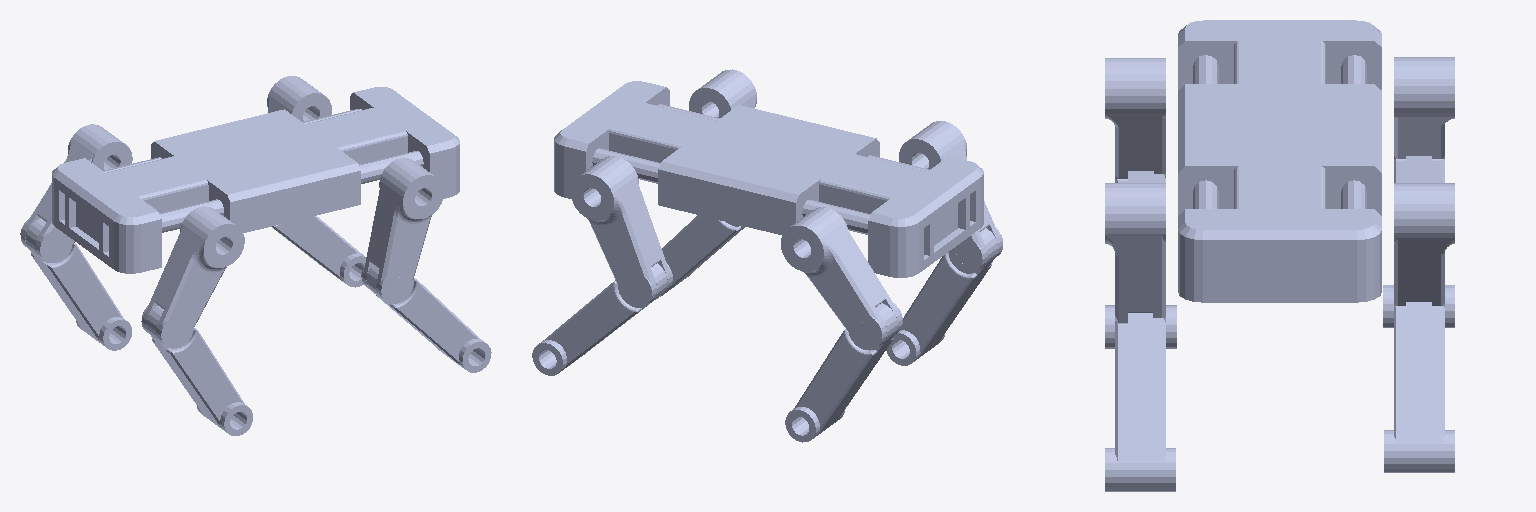
URDF robot description (Assem1_v4.SLDASM):
<?xml version="1.0" encoding="utf-8"?>
<!-- This URDF was automatically created by SolidWorks to URDF Exporter! Originally created by [author] ([email redacted]) 
     Commit Version: 1.6.0-4-g7f85cfe  Build Version: 1.6.7995.38578
     For more information, please see http://wiki.ros.org/sw_urdf_exporter -->
<robot
  name="Assem1_v4.SLDASM">
  <link
    name="base_link">
    <inertial>
      <origin
        xyz="0.504545318881019 0.0482876332833944 -0.2"
        rpy="0 0 0" />
      <mass
        value="38.4857486524171" />
      <inertia
        ixx="0.485830705764068"
        ixy="0.00363638069026404"
        ixz="1.66141709338367E-16"
        iyy="3.89642509357713"
        iyz="1.36191425876838E-17"
        izz="3.51367848534271" />
    </inertial>
    <visual>
      <origin
        xyz="0 0 0"
        rpy="0 0 0" />
      <geometry>
        <mesh
          filename="package://Assem1_v4.SLDASM/meshes/base_link.STL" />
      </geometry>
      <material
        name="">
        <color
          rgba="0.792156862745098 0.819607843137255 0.933333333333333 1" />
      </material>
    </visual>
    <collision>
      <origin
        xyz="0 0 0"
        rpy="0 0 0" />
      <geometry>
        <mesh
          filename="package://Assem1_v4.SLDASM/meshes/base_link.STL" />
      </geometry>
    </collision>
  </link>
  <link
    name="flu_link">
    <inertial>
      <origin
        xyz="0.0508859384181059 -0.0742448473651703 0.0538957774161642"
        rpy="0 0 0" />
      <mass
        value="3.0803020089316" />
      <inertia
        ixx="0.019897069534568"
        ixy="0.00924702522546263"
        ixz="0.000589182800434804"
        iyy="0.0127429468629223"
        iyz="-0.000859668231993267"
        izz="0.026186060918506" />
    </inertial>
    <visual>
      <origin
        xyz="0 0 0"
        rpy="0 0 0" />
      <geometry>
        <mesh
          filename="package://Assem1_v4.SLDASM/meshes/flu_link.STL" />
      </geometry>
      <material
        name="">
        <color
          rgba="0.792156862745098 0.819607843137255 0.933333333333333 1" />
      </material>
    </visual>
    <collision>
      <origin
        xyz="0 0 0"
        rpy="0 0 0" />
      <geometry>
        <mesh
          filename="package://Assem1_v4.SLDASM/meshes/flu_link.STL" />
      </geometry>
    </collision>
  </link>
  <joint
    name="flu"
    type="revolute">
    <origin
      xyz="0.21 -0.0225 0.055"
      rpy="1.5708 1.1212 0" />
    <parent
      link="base_link" />
    <child
      link="flu_link" />
    <axis
      xyz="0 0 1" />
    <limit
      lower="0.785"
      upper="-1.57"
      effort="100"
      velocity="50" />
  </joint>
  <link
    name="fll_link">
    <inertial>
      <origin
        xyz="0.198241597181061 -0.0269018733426069 0.0499908752982825"
        rpy="0 0 0" />
      <mass
        value="3.19560260298567" />
      <inertia
        ixx="0.036632152367997"
        ixy="-0.0113204735748046"
        ixz="-2.52470877228433E-06"
        iyy="0.009022815100894"
        iyz="-3.19395818925401E-06"
        izz="0.0399234430060635" />
    </inertial>
    <visual>
      <origin
        xyz="0 0 0"
        rpy="0 0 0" />
      <geometry>
        <mesh
          filename="package://Assem1_v4.SLDASM/meshes/fll_link.STL" />
      </geometry>
      <material
        name="">
        <color
          rgba="0.792156862745098 0.819607843137255 0.933333333333333 1" />
      </material>
    </visual>
    <collision>
      <origin
        xyz="0 0 0"
        rpy="0 0 0" />
      <geometry>
        <mesh
          filename="package://Assem1_v4.SLDASM/meshes/fll_link.STL" />
      </geometry>
    </collision>
  </link>
  <joint
    name="fll"
    type="revolute">
    <origin
      xyz="0.25 0 0"
      rpy="0 0 -1.1385" />
    <parent
      link="flu_link" />
    <child
      link="fll_link" />
    <axis
      xyz="0 0 1" />
    <limit
      lower="0.785"
      upper="-1.57"
      effort="100"
      velocity="50" />
  </joint>
  <link
    name="fru_link">
    <inertial>
      <origin
        xyz="0.026575286544111 0.0859966876790211 0.0538957868274886"
        rpy="0 0 0" />
      <mass
        value="3.08030230933662" />
      <inertia
        ixx="0.024506184975014"
        ixy="-0.00559369270295752"
        ixz="0.000307719923731582"
        iyy="0.00813383627418781"
        iyz="0.000995728822855262"
        izz="0.0261860618908341" />
    </inertial>
    <visual>
      <origin
        xyz="0 0 0"
        rpy="0 0 0" />
      <geometry>
        <mesh
          filename="package://Assem1_v4.SLDASM/meshes/fru_link.STL" />
      </geometry>
      <material
        name="">
        <color
          rgba="0.792156862745098 0.819607843137255 0.933333333333333 1" />
      </material>
    </visual>
    <collision>
      <origin
        xyz="0 0 0"
        rpy="0 0 0" />
      <geometry>
        <mesh
          filename="package://Assem1_v4.SLDASM/meshes/fru_link.STL" />
      </geometry>
    </collision>
  </link>
  <joint
    name="fru"
    type="revolute">
    <origin
      xyz="0.21 0.4225 0.055"
      rpy="-1.5708 1.0032 0" />
    <parent
      link="base_link" />
    <child
      link="fru_link" />
    <axis
      xyz="0 0 1" />
    <limit
      lower="0.785"
      upper="-1.57"
      effort="100"
      velocity="50" />
  </joint>
  <link
    name="frl_link">
    <inertial>
      <origin
        xyz="0.1900479242754 0.152723496843195 0.0499908753152979"
        rpy="0 0 0" />
      <mass
        value="3.19560260700665" />
      <inertia
        ixx="0.0268649711947137"
        ixy="0.0173902471012097"
        ixz="-1.38017331237562E-06"
        iyy="0.0187899963380294"
        iyz="3.83021285483568E-06"
        izz="0.0399234430545993" />
    </inertial>
    <visual>
      <origin
        xyz="0 0 0"
        rpy="0 0 0" />
      <geometry>
        <mesh
          filename="package://Assem1_v4.SLDASM/meshes/frl_link.STL" />
      </geometry>
      <material
        name="">
        <color
          rgba="0.792156862745098 0.819607843137255 0.933333333333333 1" />
      </material>
    </visual>
    <collision>
      <origin
        xyz="0 0 0"
        rpy="0 0 0" />
      <geometry>
        <mesh
          filename="package://Assem1_v4.SLDASM/meshes/frl_link.STL" />
      </geometry>
    </collision>
  </link>
  <joint
    name="frl"
    type="revolute">
    <origin
      xyz="0.25 0 0"
      rpy="0 0 0.92792" />
    <parent
      link="fru_link" />
    <child
      link="frl_link" />
    <axis
      xyz="0 0 1" />
    <limit
      lower="0.785"
      upper="-1.57"
      effort="100"
      velocity="50" />
  </joint>
  <link
    name="blu_link">
    <inertial>
      <origin
        xyz="0.0900091290119317 0.000179264215103614 0.0538957652136904"
        rpy="0 0 0" />
      <mass
        value="3.08030152472977" />
      <inertia
        ixx="0.00640530527130702"
        ixy="-3.94785320725618E-05"
        ixz="0.00104219130416026"
        iyy="0.0262347070949263"
        iyz="2.06036268572495E-06"
        izz="0.0261860611957412" />
    </inertial>
    <visual>
      <origin
        xyz="0 0 0"
        rpy="0 0 0" />
      <geometry>
        <mesh
          filename="package://Assem1_v4.SLDASM/meshes/blu_link.STL" />
      </geometry>
      <material
        name="">
        <color
          rgba="0.792156862745098 0.819607843137255 0.933333333333333 1" />
      </material>
    </visual>
    <collision>
      <origin
        xyz="0 0 0"
        rpy="0 0 0" />
      <geometry>
        <mesh
          filename="package://Assem1_v4.SLDASM/meshes/blu_link.STL" />
      </geometry>
    </collision>
  </link>
  <joint
    name="blu"
    type="revolute">
    <origin
      xyz="0.79 -0.0225 0.055"
      rpy="-1.5708 1.3087 -3.1416" />
    <parent
      link="base_link" />
    <child
      link="blu_link" />
    <axis
      xyz="0 0 1" />
    <limit
      lower="0.785"
      upper="-1.57"
      effort="100"
      velocity="50" />
  </joint>
  <link
    name="bll_link">
    <inertial>
      <origin
        xyz="0.167345878402526 -0.0185855561285168 0.049990875316305"
        rpy="0 0 0" />
      <mass
        value="3.19560260450598" />
      <inertia
        ixx="0.00542389264376336"
        ixy="0.00397957474218242"
        ixz="-3.68718435218139E-06"
        iyy="0.0402310748461277"
        iyz="1.72630256110973E-06"
        izz="0.0399234430232057" />
    </inertial>
    <visual>
      <origin
        xyz="0 0 0"
        rpy="0 0 0" />
      <geometry>
        <mesh
          filename="package://Assem1_v4.SLDASM/meshes/bll_link.STL" />
      </geometry>
      <material
        name="">
        <color
          rgba="0.792156862745098 0.819607843137255 0.933333333333333 1" />
      </material>
    </visual>
    <collision>
      <origin
        xyz="0 0 0"
        rpy="0 0 0" />
      <geometry>
        <mesh
          filename="package://Assem1_v4.SLDASM/meshes/bll_link.STL" />
      </geometry>
    </collision>
  </link>
  <joint
    name="bll"
    type="revolute">
    <origin
      xyz="0.25 0 0"
      rpy="0 0 1.1163" />
    <parent
      link="blu_link" />
    <child
      link="bll_link" />
    <axis
      xyz="0 0 1" />
    <limit
      lower="0.785"
      upper="-1.57"
      effort="100"
      velocity="50" />
  </joint>
  <link
    name="bru_link">
    <inertial>
      <origin
        xyz="0.0786867729973145 0.0437043163692125 0.0538957972744651"
        rpy="0 0 0" />
      <mass
        value="3.08030258517879" />
      <inertia
        ixx="0.0110802831957752"
        ixy="-0.0084171304260784"
        ixz="0.000911098825397601"
        iyy="0.0215597458146517"
        iyz="0.000506031344109024"
        izz="0.0261860649709512" />
    </inertial>
    <visual>
      <origin
        xyz="0 0 0"
        rpy="0 0 0" />
      <geometry>
        <mesh
          filename="package://Assem1_v4.SLDASM/meshes/bru_link.STL" />
      </geometry>
      <material
        name="">
        <color
          rgba="0.792156862745098 0.819607843137255 0.933333333333333 1" />
      </material>
    </visual>
    <collision>
      <origin
        xyz="0 0 0"
        rpy="0 0 0" />
      <geometry>
        <mesh
          filename="package://Assem1_v4.SLDASM/meshes/bru_link.STL" />
      </geometry>
    </collision>
  </link>
  <joint
    name="bru"
    type="revolute">
    <origin
      xyz="0.79 0.4225 0.055"
      rpy="-1.5708 1.5014 0" />
    <parent
      link="base_link" />
    <child
      link="bru_link" />
    <axis
      xyz="0 0 1" />
    <limit
      lower="0.785"
      upper="-1.57"
      effort="100"
      velocity="50" />
  </joint>
  <link
    name="brl_link">
    <inertial>
      <origin
        xyz="0.0594084858774341 0.0754370183686271 0.0499908753195196"
        rpy="0 0 0" />
      <mass
        value="3.19560260477908" />
      <inertia
        ixx="0.00515370415439752"
        ixy="-0.00252180754991233"
        ixz="-3.94003868568356E-06"
        iyy="0.0405012633396893"
        iyz="1.02544107838398E-06"
        izz="0.0399234430265012" />
    </inertial>
    <visual>
      <origin
        xyz="0 0 0"
        rpy="0 0 0" />
      <geometry>
        <mesh
          filename="package://Assem1_v4.SLDASM/meshes/brl_link.STL" />
      </geometry>
      <material
        name="">
        <color
          rgba="0.792156862745098 0.819607843137255 0.933333333333333 1" />
      </material>
    </visual>
    <collision>
      <origin
        xyz="0 0 0"
        rpy="0 0 0" />
      <geometry>
        <mesh
          filename="package://Assem1_v4.SLDASM/meshes/brl_link.STL" />
      </geometry>
    </collision>
  </link>
  <joint
    name="brl"
    type="revolute">
    <origin
      xyz="0.25 0 0"
      rpy="0 0 -0.7862" />
    <parent
      link="bru_link" />
    <child
      link="brl_link" />
    <axis
      xyz="0 0 1" />
    <limit
      lower="0.785"
      upper="-1.57"
      effort="100"
      velocity="50" />
  </joint>
</robot>

--- What the picture shows (computed from the rendered views, not written in the file) ---
3 views of the same robot in one strip: view 1: azimuth 30°, elevation 25°; view 2: azimuth 150°, elevation 25°; view 3: azimuth 270°, elevation 25° (orthographic).
Model Assem1_v4.SLDASM with 9 links and 8 joints (8 revolute), rooted at base_link, posed all joints at 0.
Links seen in each view (by area): view 1: base_link, flu_link, blu_link, frl_link, fll_link, bll_link, fru_link, brl_link, bru_link; view 2: base_link, fru_link, bru_link, frl_link, fll_link, brl_link, flu_link, bll_link, blu_link; view 3: base_link, bll_link, brl_link, blu_link, bru_link, flu_link, fru_link, frl_link, fll_link.
Boxes of the visible links, <box> form: base_link: <box>52,87,459,273</box>; flu_link: <box>141,206,244,348</box>; blu_link: <box>361,158,443,303</box>; frl_link: <box>25,218,131,350</box>; fll_link: <box>146,306,252,435</box>; bll_link: <box>366,264,491,372</box>; fru_link: <box>20,124,132,262</box>; brl_link: <box>272,216,365,287</box>; bru_link: <box>267,76,331,121</box>; base_link: <box>554,81,983,277</box>; fru_link: <box>781,207,902,350</box>; bru_link: <box>571,156,672,307</box>; frl_link: <box>785,303,897,442</box>; fll_link: <box>886,228,997,365</box>; brl_link: <box>532,263,667,375</box>; flu_link: <box>899,121,1002,273</box>; bll_link: <box>657,215,744,298</box>; blu_link: <box>689,69,756,226</box>; base_link: <box>1178,20,1381,302</box>; bll_link: <box>1105,313,1175,491</box>; brl_link: <box>1384,302,1454,472</box>; blu_link: <box>1105,183,1165,323</box>; bru_link: <box>1394,183,1454,306</box>; flu_link: <box>1105,58,1165,178</box>; fru_link: <box>1394,57,1454,158</box>; frl_link: <box>1383,156,1454,327</box>; fll_link: <box>1105,171,1176,348</box>.
Size in the robot's own frame: 1 by 0.685 by 0.5981 metres.
9 mesh visuals loaded from 9 distinct referenced files (9 binary STL).